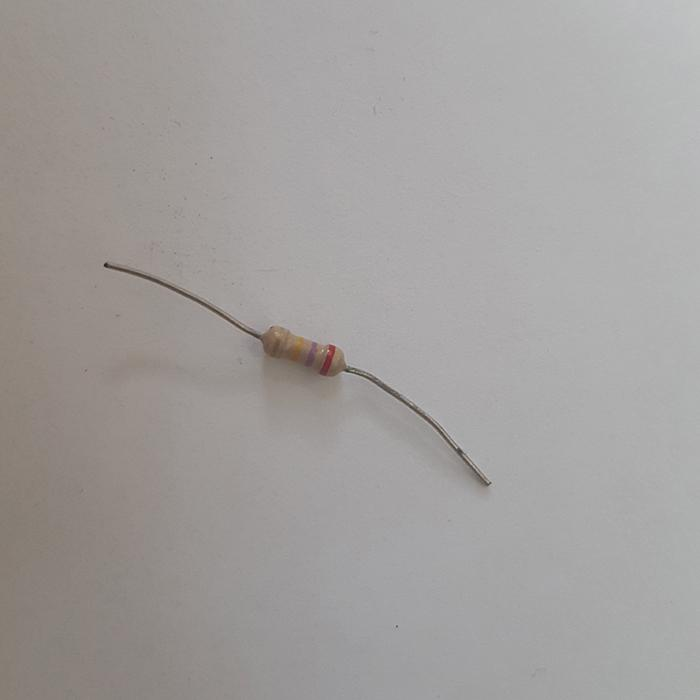resistor: (259, 325, 347, 376)
